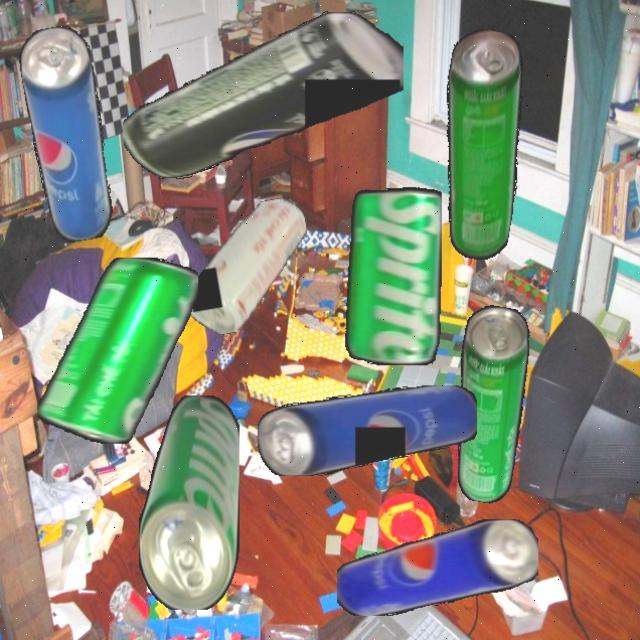debris: (122, 10, 404, 179), (36, 257, 198, 443), (418, 25, 542, 264), (15, 22, 122, 246), (314, 186, 442, 365), (138, 394, 239, 610), (172, 195, 322, 339), (437, 302, 540, 506), (258, 384, 477, 476), (336, 519, 538, 616)
